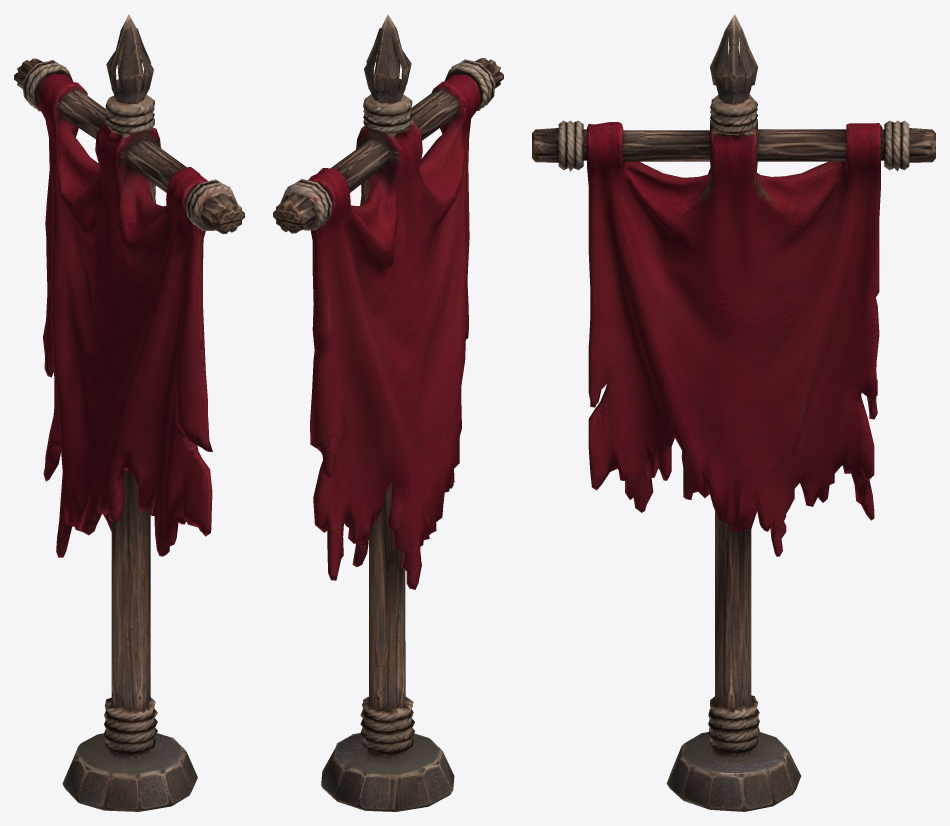
The model's file is SM_Env_Banner.fbx.
The picture shows the model from 3 angles, left to right: view 1: azimuth 30°, elevation 25°; view 2: azimuth 150°, elevation 25°; view 3: azimuth 270°, elevation 25°; orthographic projection.
Visible parts, largest first — view 1: SM_Env_Banner; view 2: SM_Env_Banner; view 3: SM_Env_Banner.
Boxes of the visible parts, box(x1,y1,x2,y2) form: SM_Env_Banner: box(14, 14, 244, 811); SM_Env_Banner: box(273, 14, 503, 811); SM_Env_Banner: box(532, 14, 935, 811).
Size of the model in its own units: 19.49 by 57.06 by 120.
Materials: 1 (1 with a texture image).
